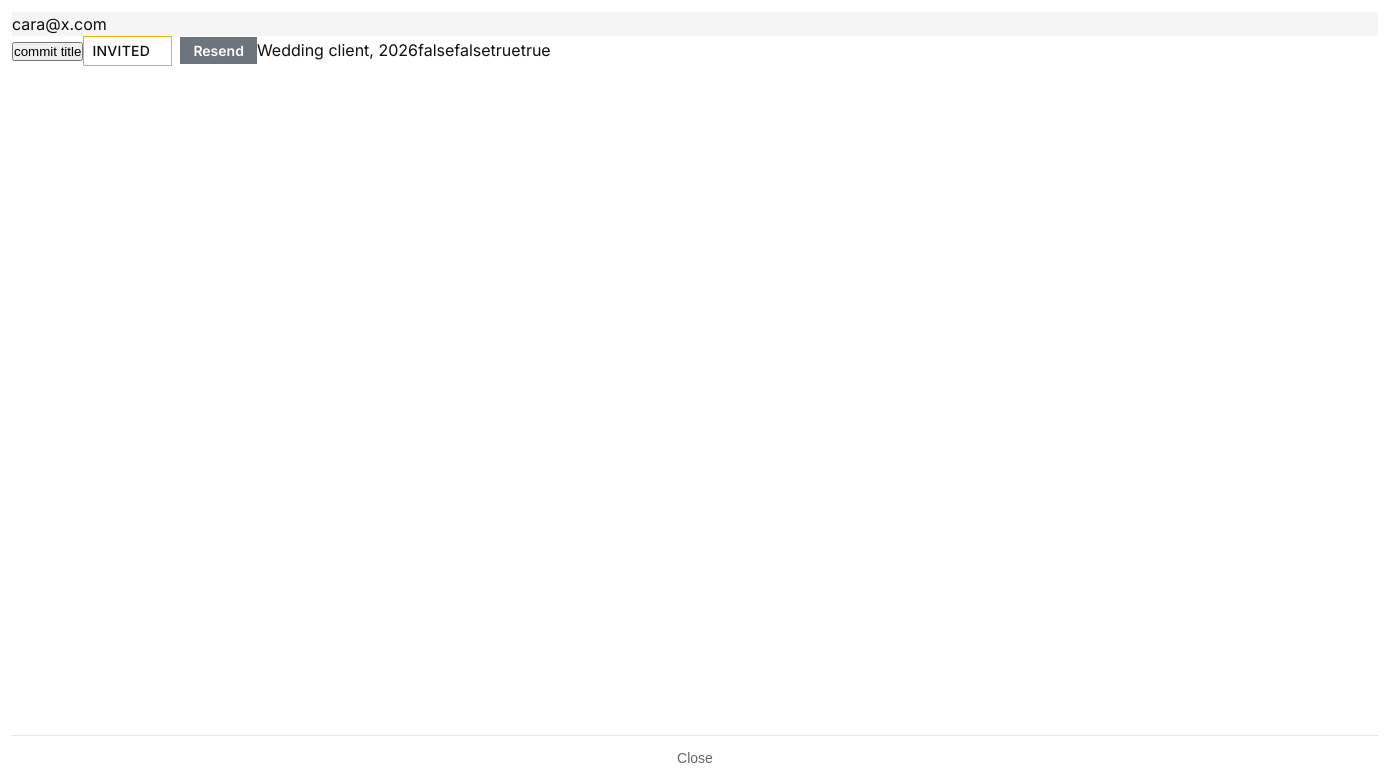
Test case: AdminUserSpaceEditor › relabels the invite action when the status changes under it
This screenshot has width=1390, height=780.
Check: the button "Resend" is shown, box [180, 37, 257, 64]
Select "ACTIVE" in the dropdown named "Status" at coordinates (128, 51), box [83, 36, 172, 66]
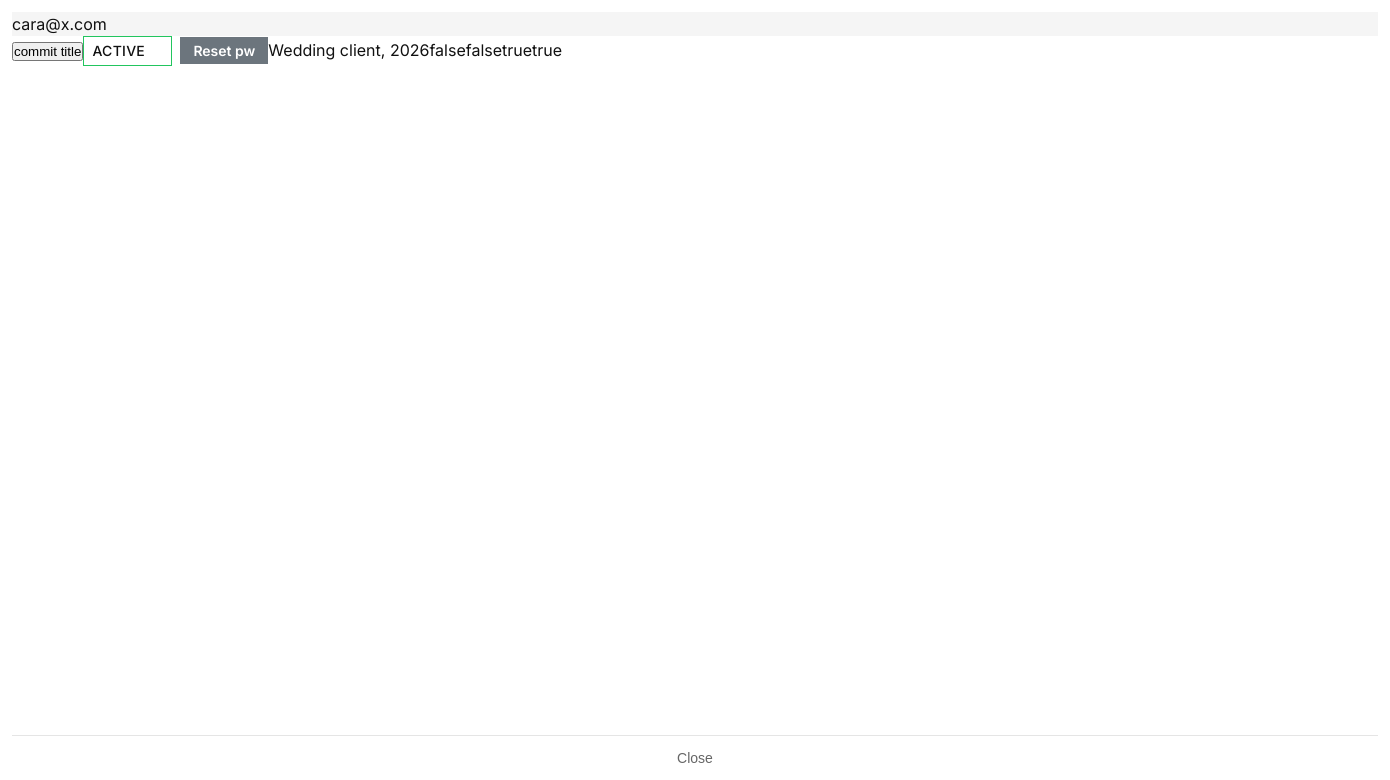
Check: the button "Reset pw" is shown, box [180, 37, 268, 64]
